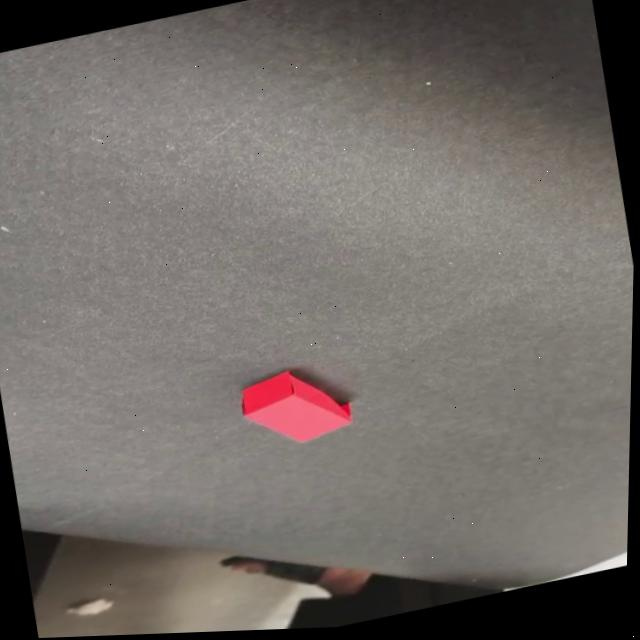red block: (231, 357, 355, 456)
